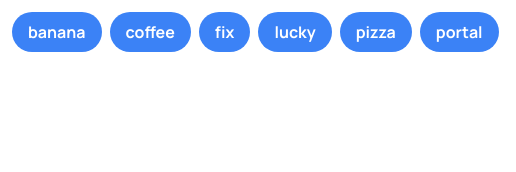
Scenario: JParrots › removes a parrot when the parrot image is clicked, enabling the corresponding button
Click the button "banana" at (57, 32), box [12,12,102,52]
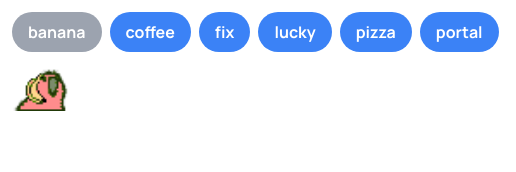
Expected: the picture with alt text "banana parrot" is shown
Expected: the button "banana" is disabled, [12,12,102,52]
Click the picture with alt text "banana parrot" at (42, 89), box [12,68,72,111]
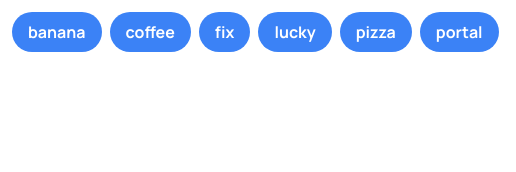
Expected: the button "banana" is enabled, [12,12,102,52]
